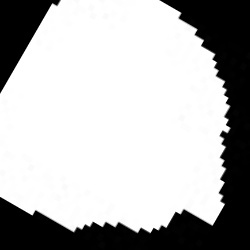spot: (0, 0, 231, 234)
